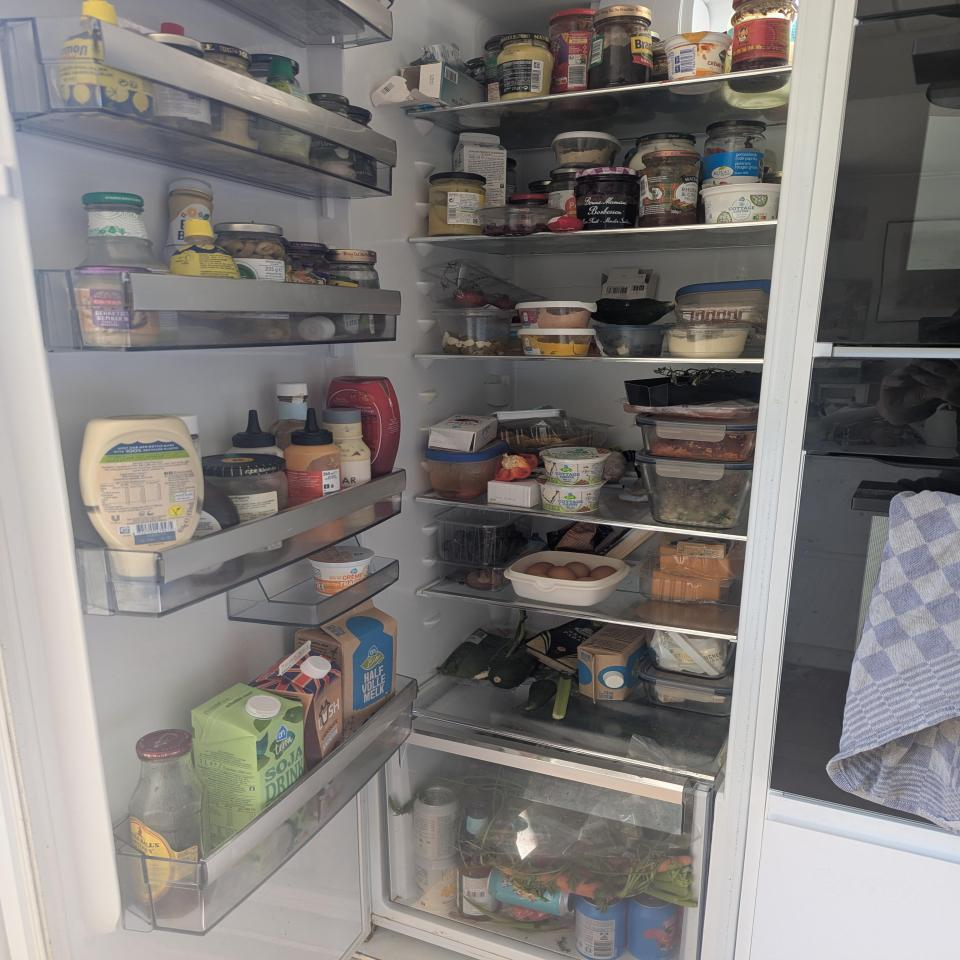Huevos: (524, 560, 618, 582)
Queso: (676, 539, 738, 558)
Tomate: (454, 286, 518, 310)
Yogur: (662, 32, 733, 95)
Zanahoria: (493, 848, 695, 907), (502, 869, 614, 901)
ketchup: (328, 375, 401, 516)
mustard: (497, 34, 553, 112), (430, 172, 487, 236)
